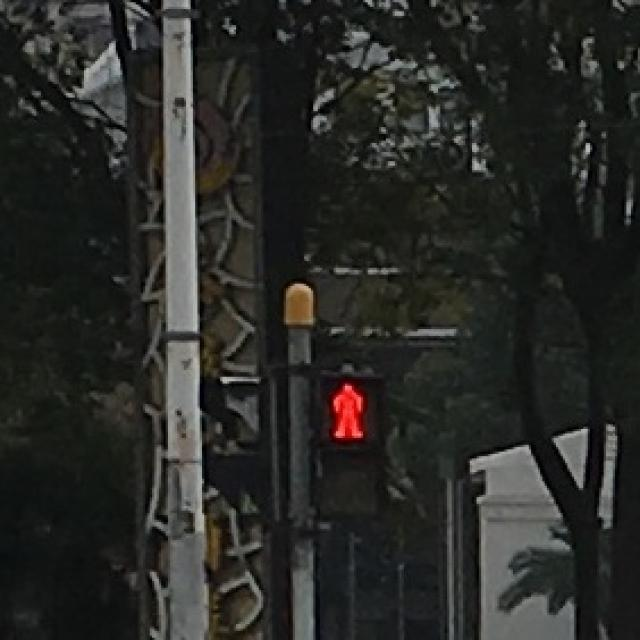red-crossing: (320, 373, 374, 441)
